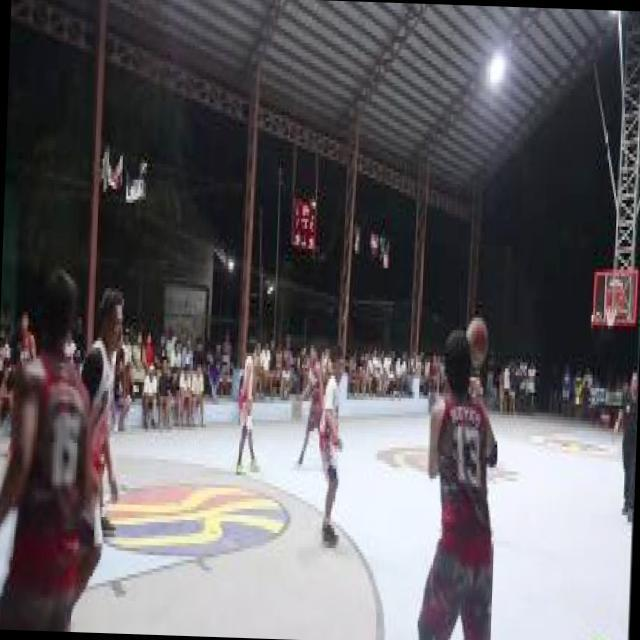ball: (463, 314, 490, 374)
hoop: (601, 306, 620, 312)
